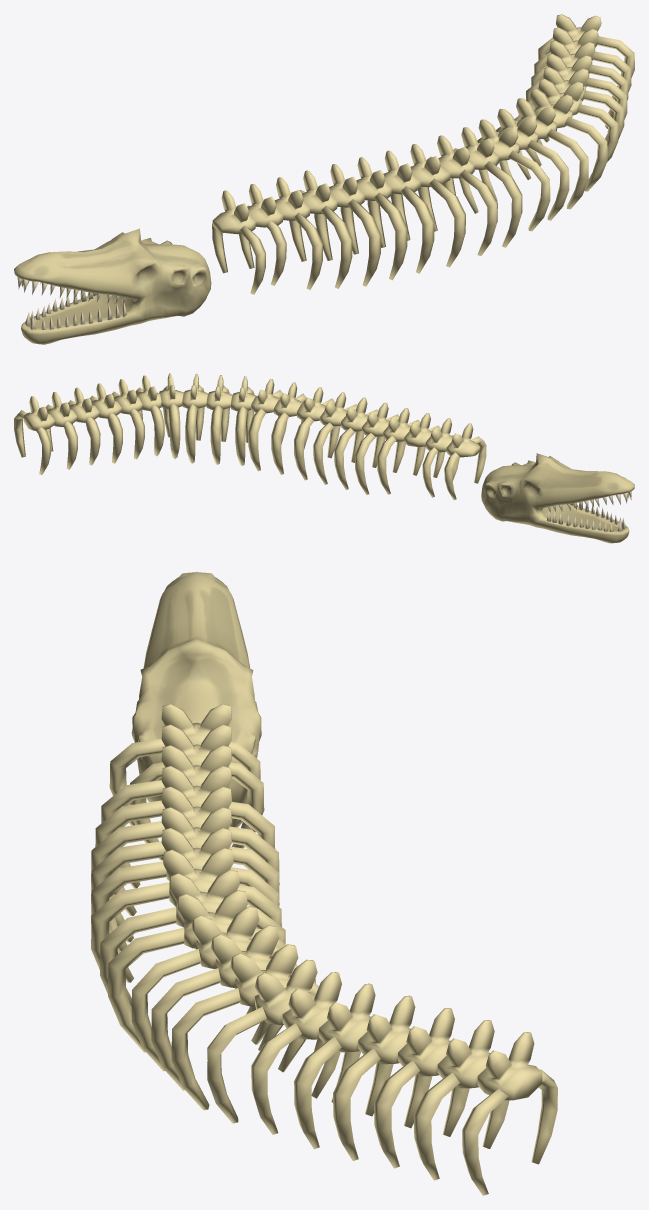
File: Skull.fbx
3 views of the same model, one above another, from view 1: azimuth 30°, elevation 25°; view 2: azimuth 150°, elevation 25°; view 3: azimuth 270°, elevation 25° (orthographic). The views are drawn at different scales.
Visible parts, largest first — view 1: Leviathen-1; view 2: Leviathen-1; view 3: Leviathen-1.
Part boxes in pixels (x1,y1,x2,y2): Leviathen-1: [14, 14, 634, 344]; Leviathen-1: [14, 373, 634, 543]; Leviathen-1: [91, 572, 557, 1195].
Size of the model in its own units: 7310 by 1002 by 2694.
